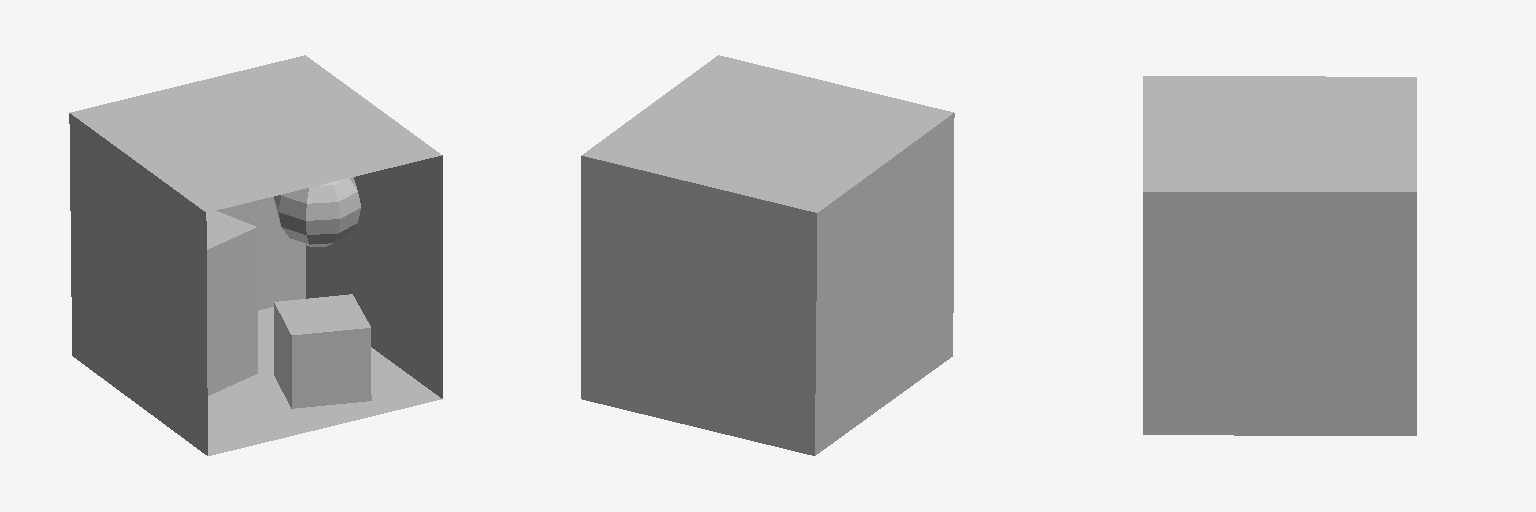
Rendered from textured-cornell-box-sphere.obj.
3 renders of one model, left to right at view 1: azimuth 30°, elevation 25°; view 2: azimuth 150°, elevation 25°; view 3: azimuth 270°, elevation 25°, orthographic.
Parts seen in each view (by area): view 1: Node #4, Node #2, Node #5, Node #3, Node #6, Node #7, Node #1, node_id38; view 2: Node #1, Node #4, Node #2; view 3: Node #5, Node #2.
Part boxes in pixels (x1,y1,x2,y2): Node #4: (69, 113, 207, 455); Node #2: (70, 55, 441, 212); Node #5: (306, 155, 442, 398); Node #3: (208, 307, 441, 455); Node #6: (274, 294, 371, 408); Node #7: (206, 211, 257, 395); Node #1: (216, 197, 305, 310); node_id38: (274, 177, 360, 246); Node #1: (581, 156, 816, 455); Node #4: (815, 113, 954, 455); Node #2: (581, 55, 953, 212); Node #5: (1143, 192, 1416, 435); Node #2: (1143, 76, 1416, 191).
Bounding box in the file's own units: 0.512 × 0.5058 × 0.5153.